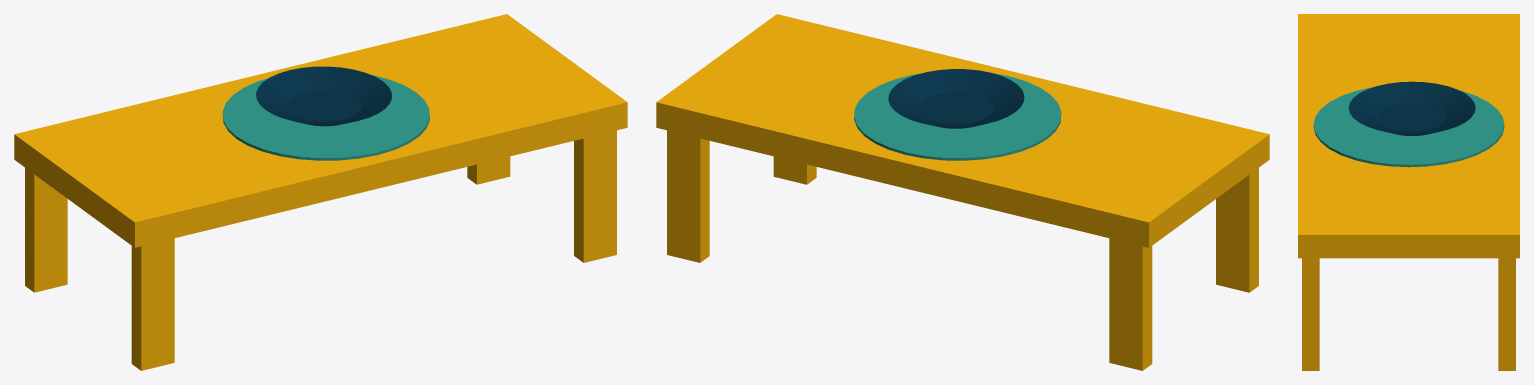
The model's file is MESA-COMEDOR.glb.
3 renders of one model, left to right at view 1: azimuth 30°, elevation 25°; view 2: azimuth 150°, elevation 25°; view 3: azimuth 270°, elevation 25°, orthographic. The views are drawn at different scales.
Parts seen in each view (by area): view 1: MESA-COMEDOR; view 2: MESA-COMEDOR; view 3: MESA-COMEDOR.
Part boxes in pixels (x1,y1,x2,y2): MESA-COMEDOR: [14, 14, 627, 370]; MESA-COMEDOR: [656, 14, 1269, 370]; MESA-COMEDOR: [1298, 14, 1519, 370].
Size of the model in its own units: 7.54 by 2.52 by 3.19.
Materials: 1 (1 with a texture image).
